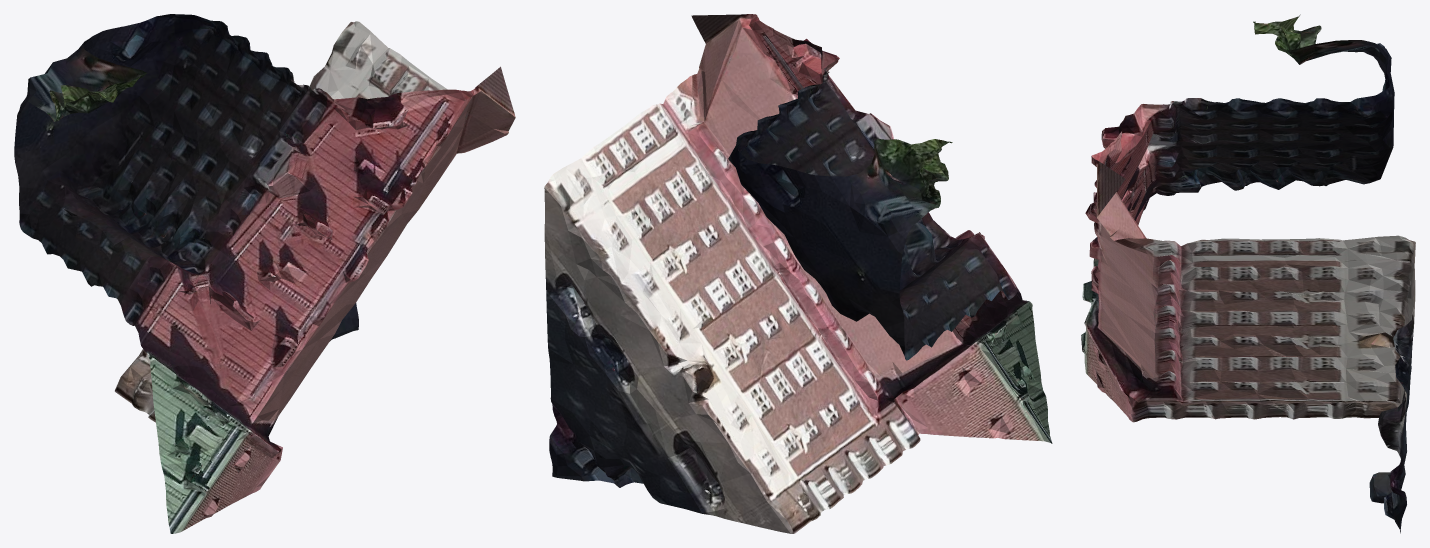
Rendered from Tile_+031_+022_L20_0000200.obj.
3 views of the same model, side by side, from view 1: azimuth 30°, elevation 25°; view 2: azimuth 150°, elevation 25°; view 3: azimuth 270°, elevation 25° (orthographic). The views are drawn at different scales.
Size of the model in its own units: 31.38 by 31.5 by 26.91.
1 material, 1 textured.
